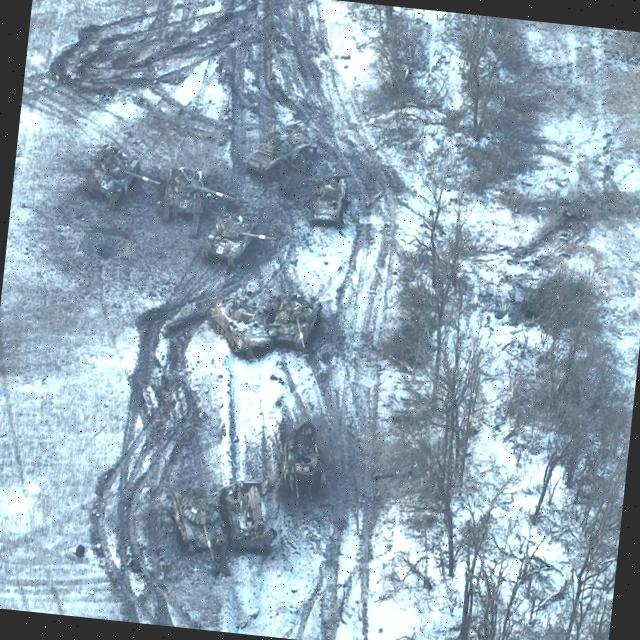AIFV: (220, 477, 279, 565), (282, 421, 327, 488), (312, 173, 349, 230)
MBT: (243, 115, 316, 184), (203, 211, 281, 274), (86, 145, 164, 207), (167, 485, 225, 568), (158, 168, 235, 229), (209, 294, 273, 367), (269, 289, 321, 366)
